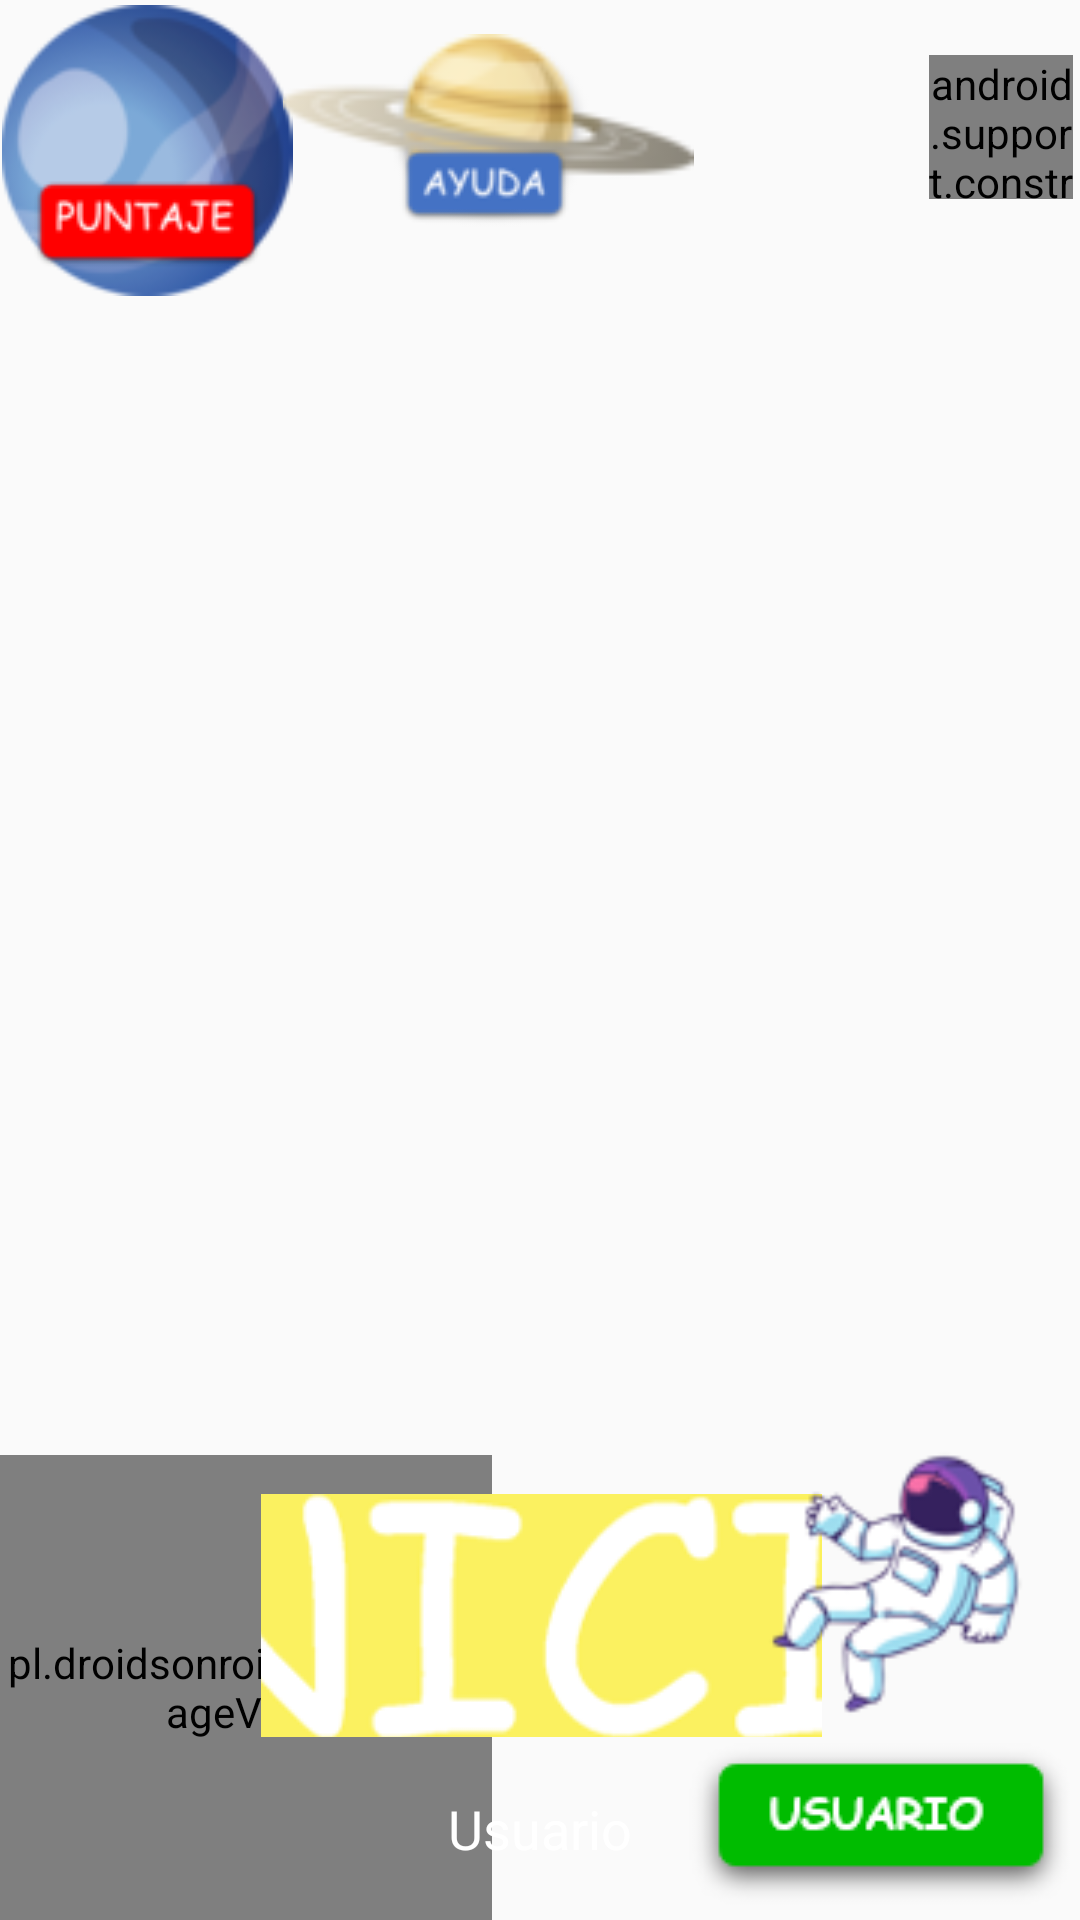

Icon click points for this 1080px×1920px phone screenshot, format point (x, y):
astronauta: point (889, 1593)
